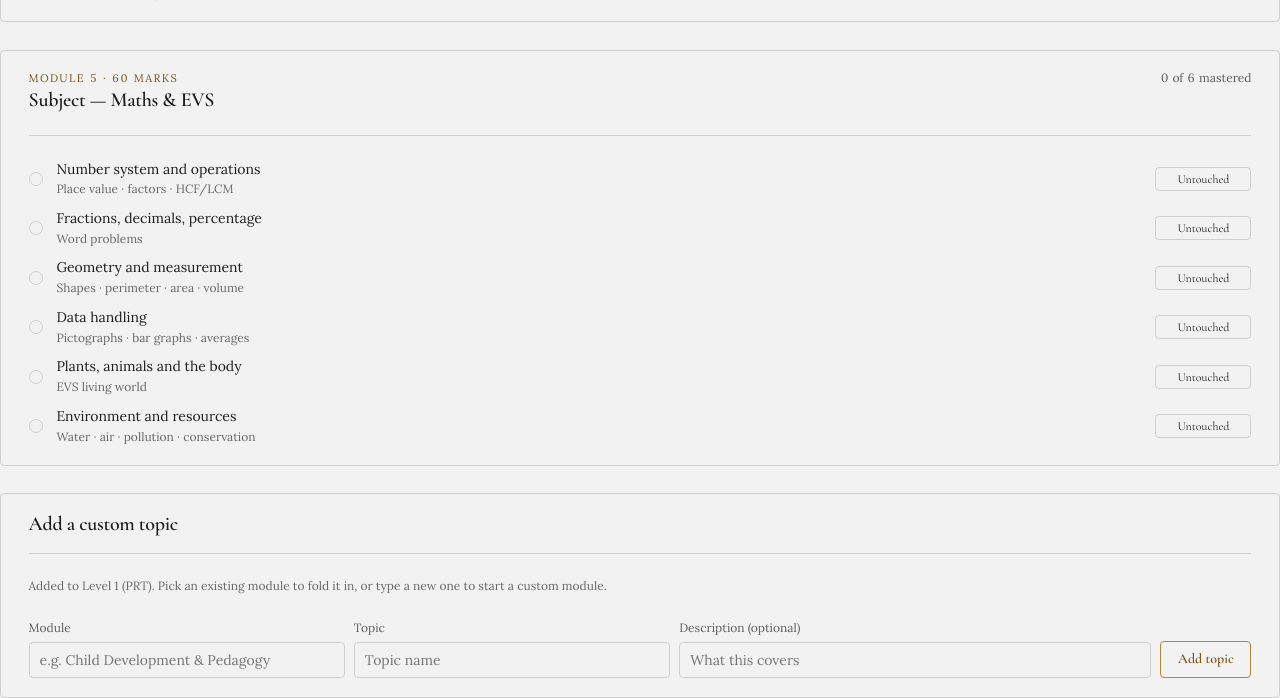
Test case: Syllabus custom topics › adding a topic under a brand-new module name starts a new "Custom module" card
(page scrolled)
Type "My Own Module" into the field with placeholder "e.g. Child Development & Pedagogy".
click(187, 660); type("My Own Module")  # box 29,642 -> 345,678
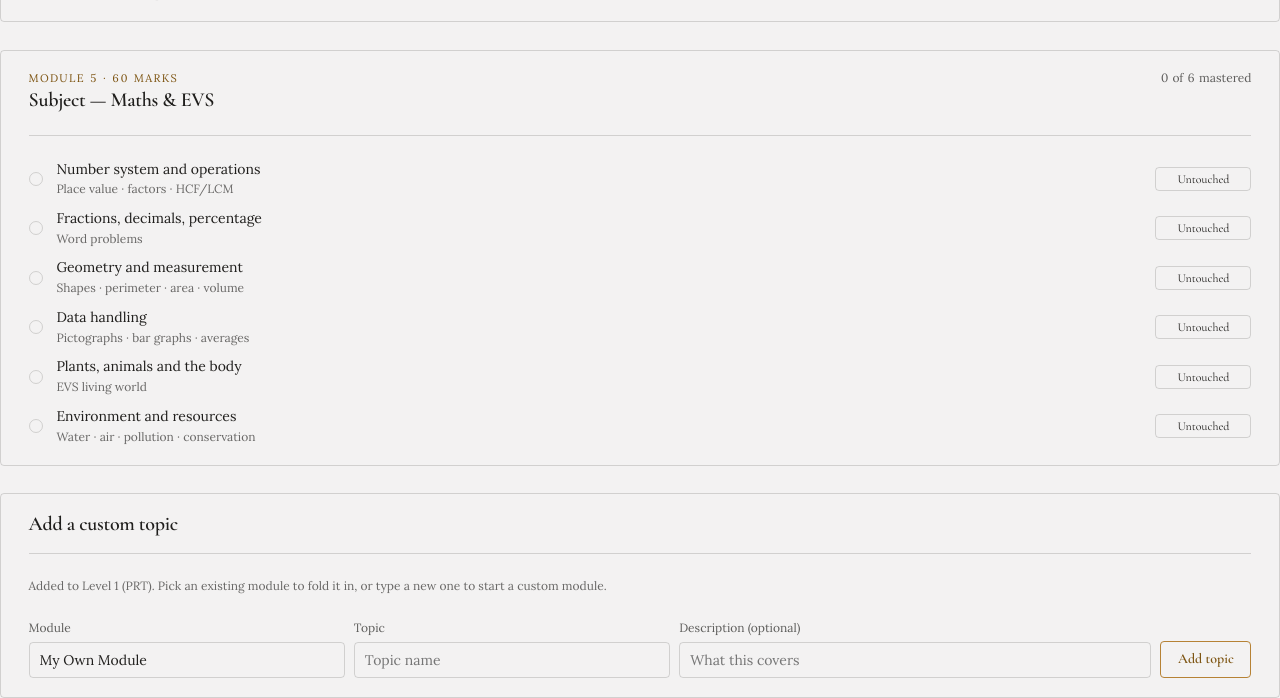
Type "Topic X" into the field with placeholder "Topic name".
click(512, 660); type("Topic X")  # box 354,642 -> 670,678
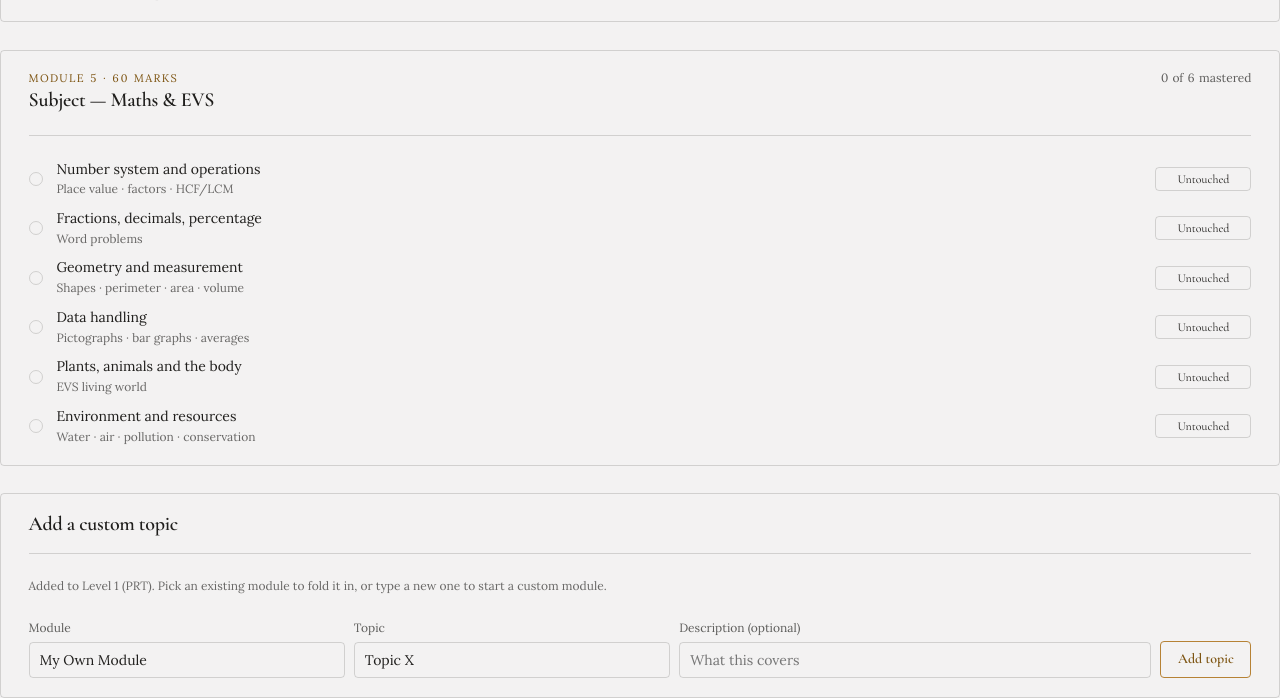
Click the button "Add topic".
click(1206, 660)  # box 1160,641 -> 1251,678
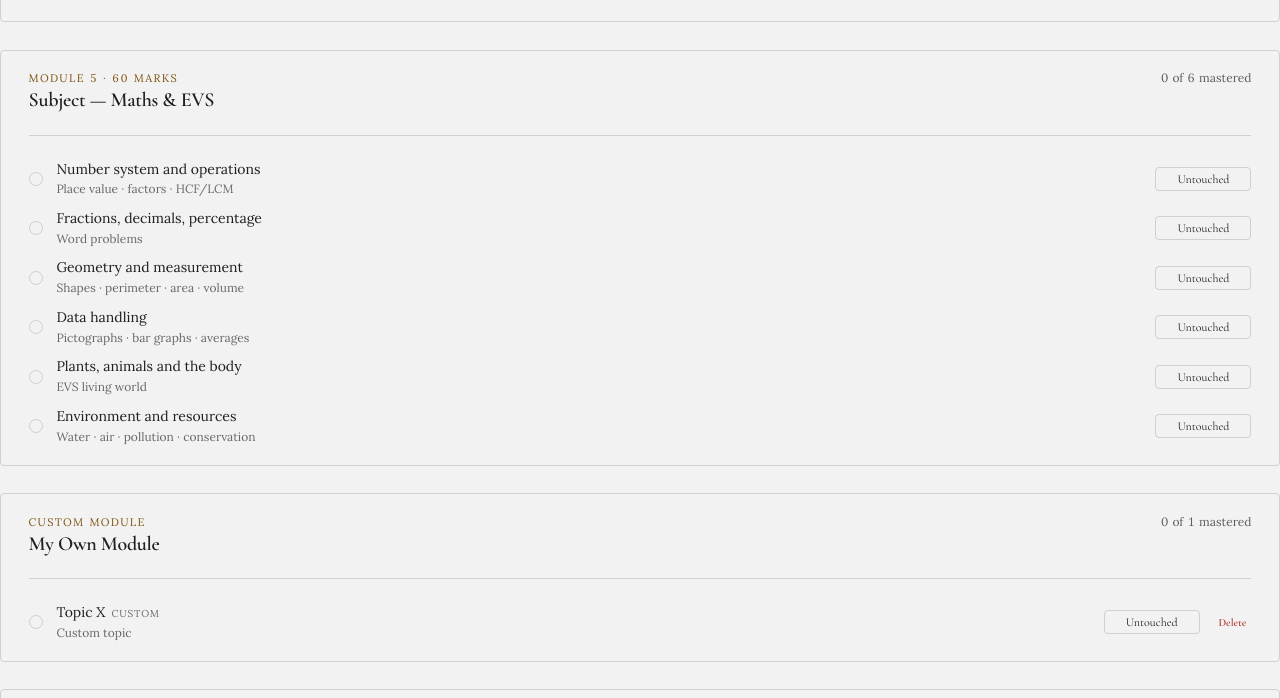
Now the heading "My Own Module" is shown, box 29,533 -> 160,555
Now the text "Custom module" is shown, box 29,514 -> 160,530
